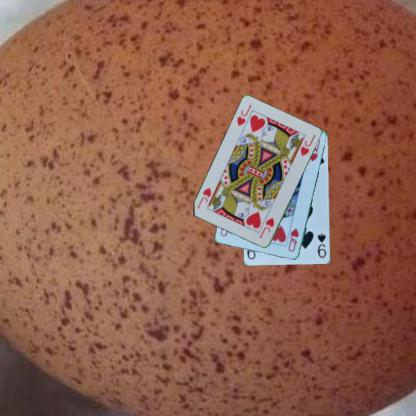9s: (316, 231, 327, 259)
Jh: (256, 215, 275, 240), (235, 102, 253, 128)
Qh: (286, 226, 300, 253)
